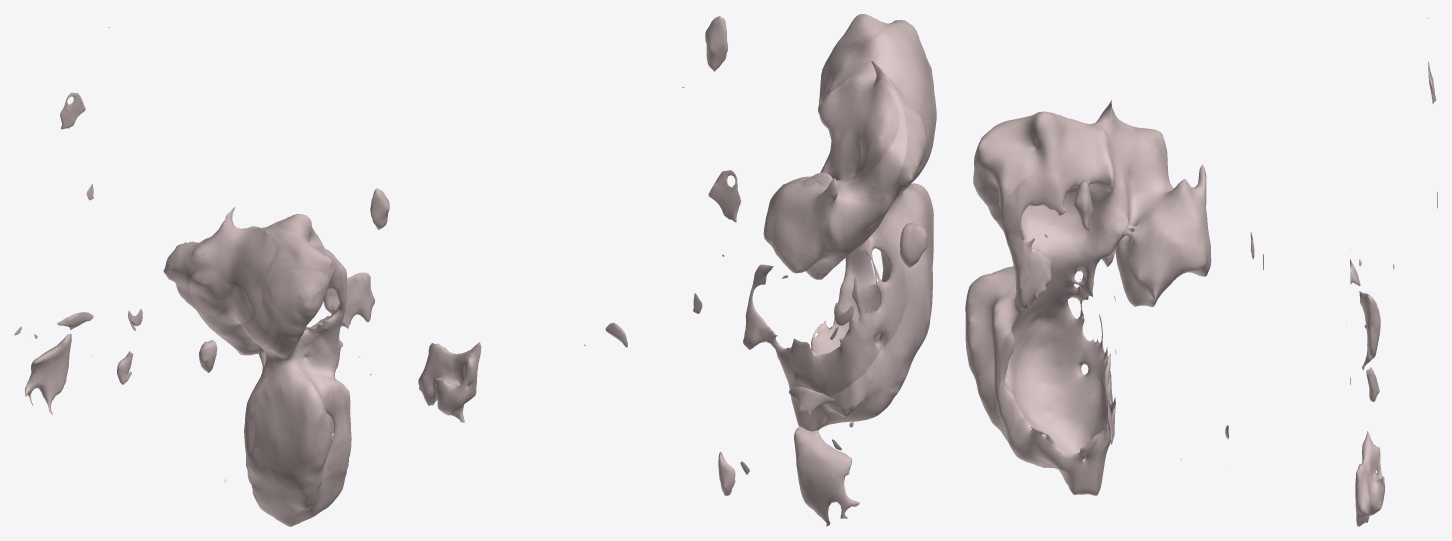
File: seg_2.obj
The picture shows the model from 3 angles, left to right: view 1: azimuth 30°, elevation 25°; view 2: azimuth 150°, elevation 25°; view 3: azimuth 270°, elevation 25°; orthographic projection. The views are drawn at different scales.
Parts seen in each view (by area): view 1: grp1; view 2: grp1; view 3: grp1.
Boxes of the visible parts, x1,y1,x2,y2 form: grp1: (14,27,389,526); grp1: (418,14,936,526); grp1: (965,17,1437,526).
Bounding box in the file's own units: 108 × 118 × 109.
